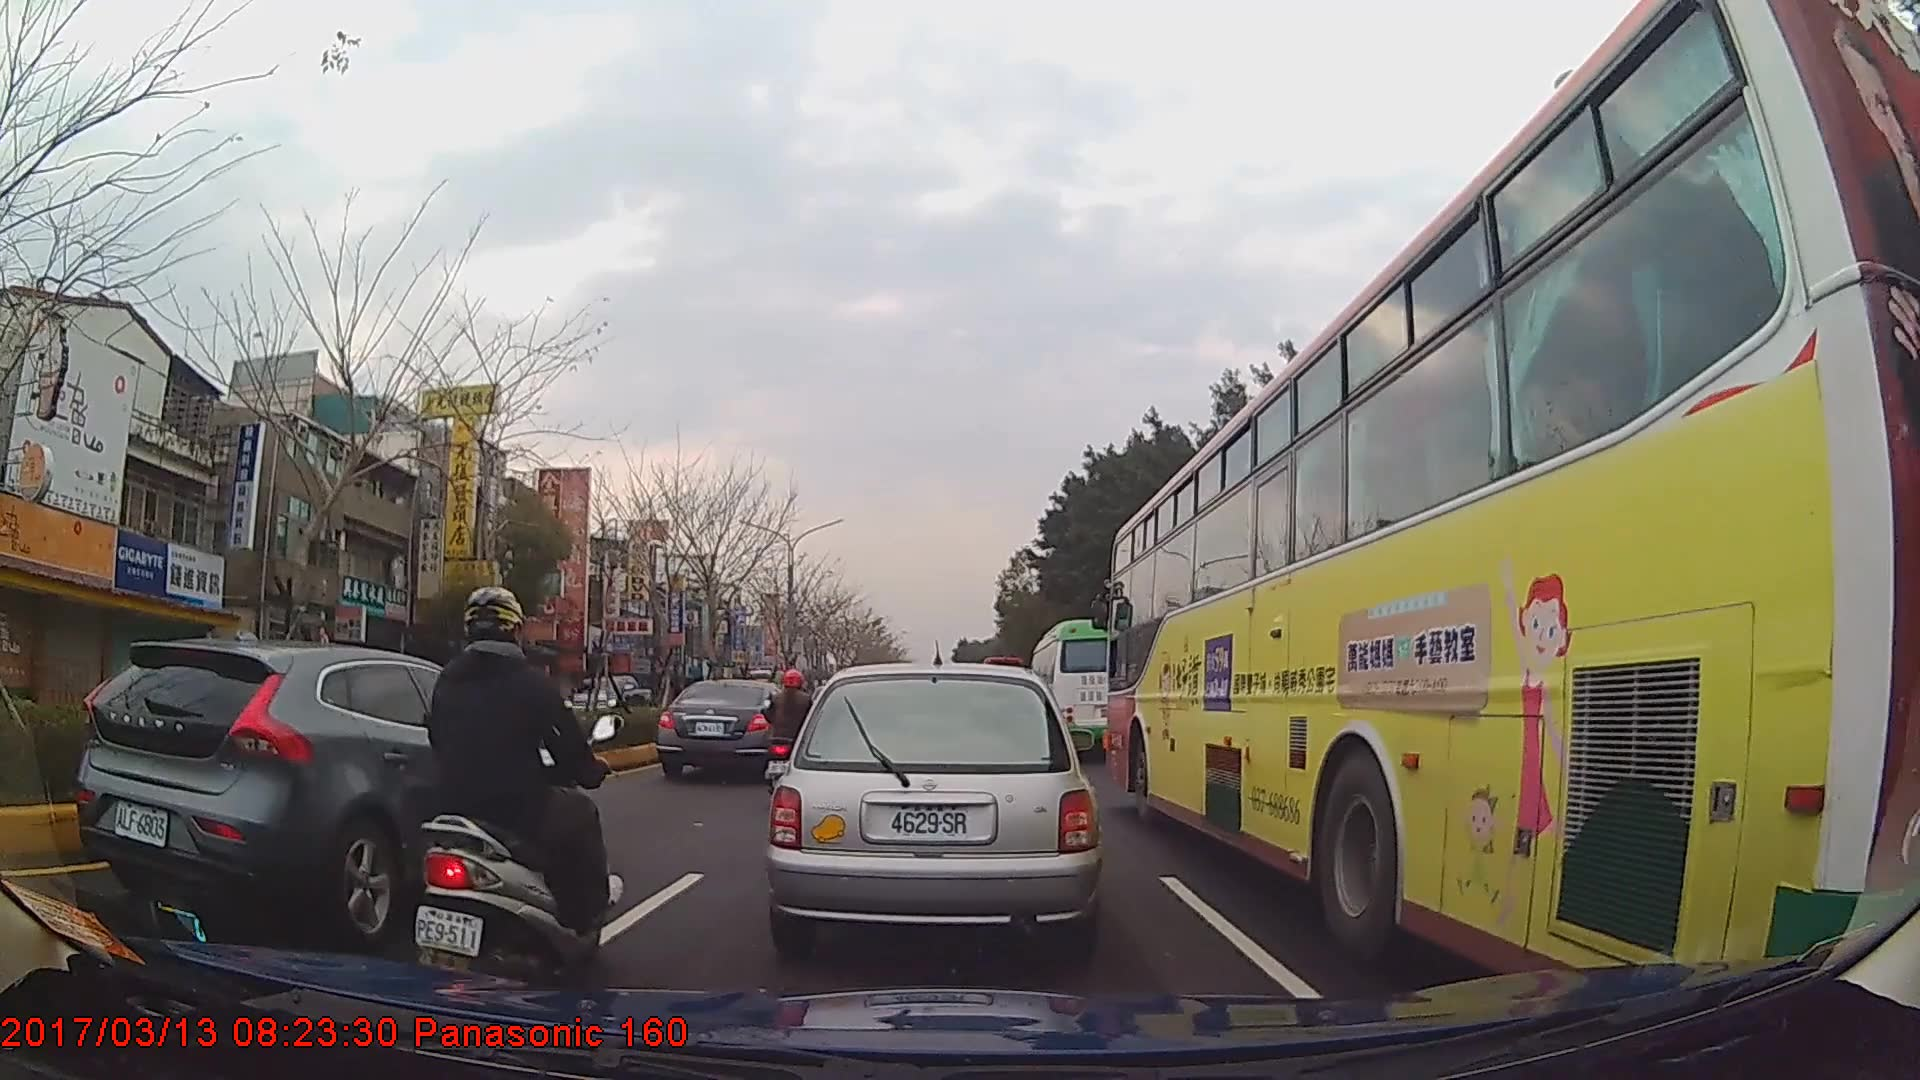rider: (416, 585, 617, 971), (764, 668, 822, 791)
vehicle: (1104, 0, 1920, 1008), (74, 635, 576, 929), (767, 661, 1103, 957), (656, 674, 801, 782), (1025, 618, 1132, 753), (562, 673, 653, 731)
